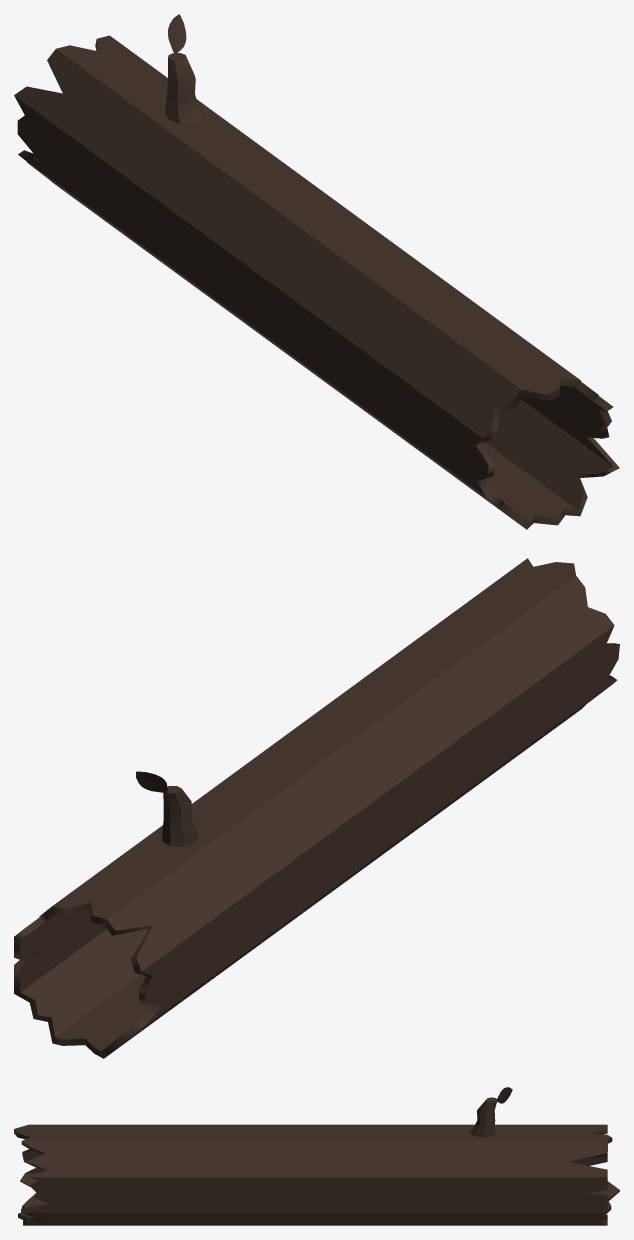
The model's file is LeafLog.fbx.
The picture shows the model from 3 angles, top to bottom: view 1: azimuth 30°, elevation 25°; view 2: azimuth 150°, elevation 25°; view 3: azimuth 270°, elevation 25°; orthographic projection. The views are drawn at different scales.
Visible parts, largest first — view 1: leaf_log; view 2: leaf_log; view 3: leaf_log.
Boxes of the visible parts, bbox=[...] form: leaf_log: bbox=[14, 14, 619, 529]; leaf_log: bbox=[14, 558, 619, 1058]; leaf_log: bbox=[14, 1087, 619, 1225].
Bounding box in the file's own units: 2.05 × 3.24 × 13.27.
